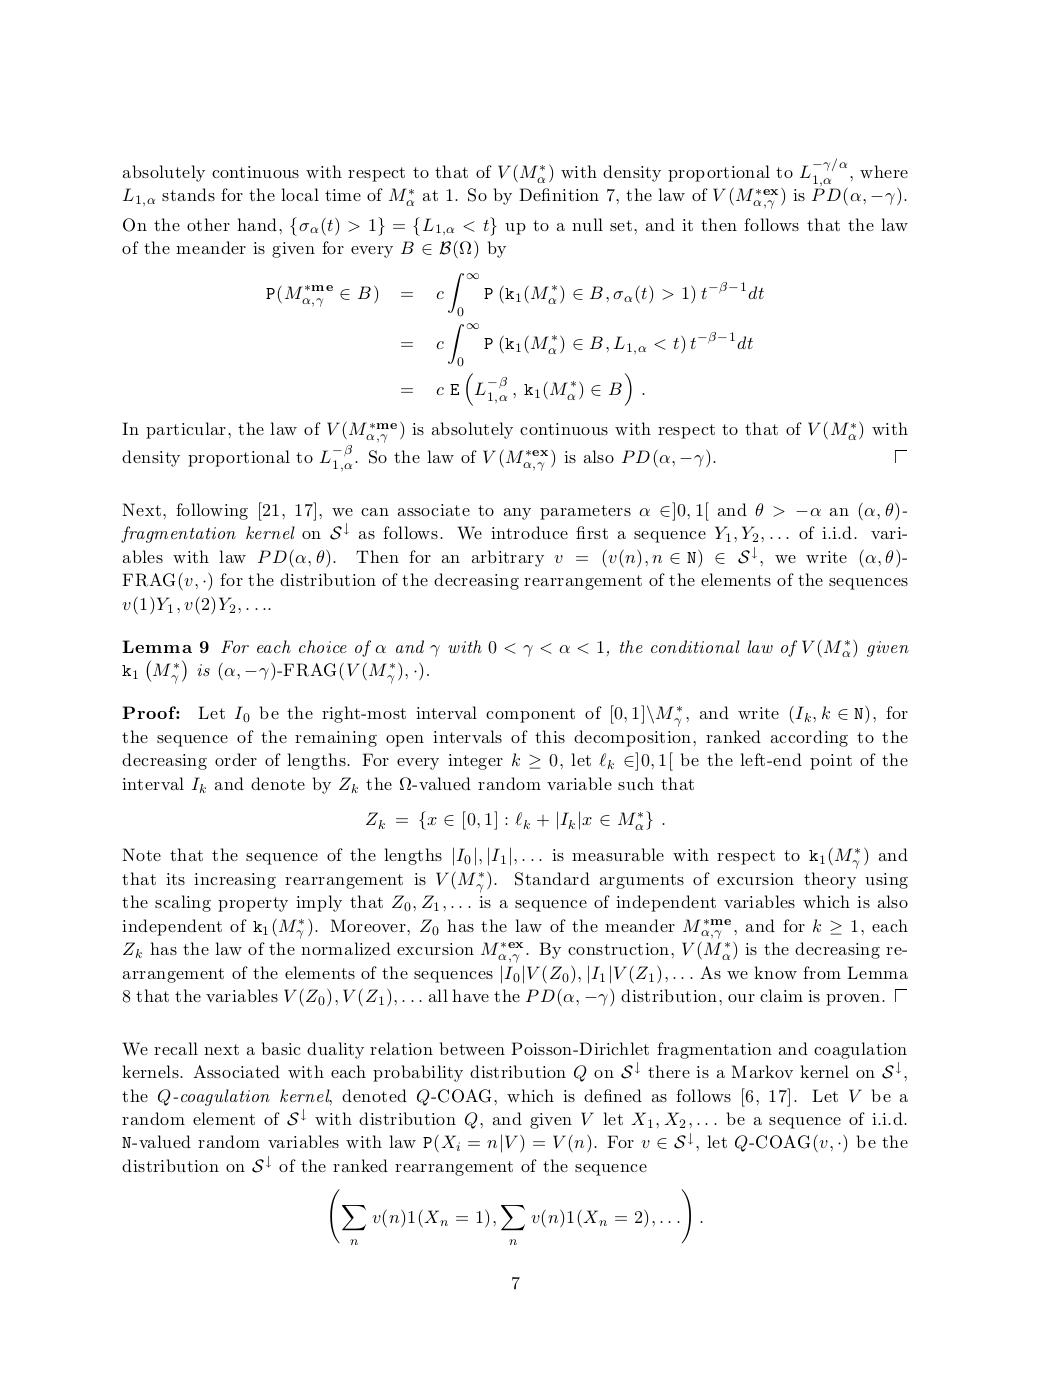formula: (266, 272, 763, 317), (330, 1188, 702, 1245), (401, 322, 752, 367), (401, 372, 644, 406), (366, 810, 664, 831)
